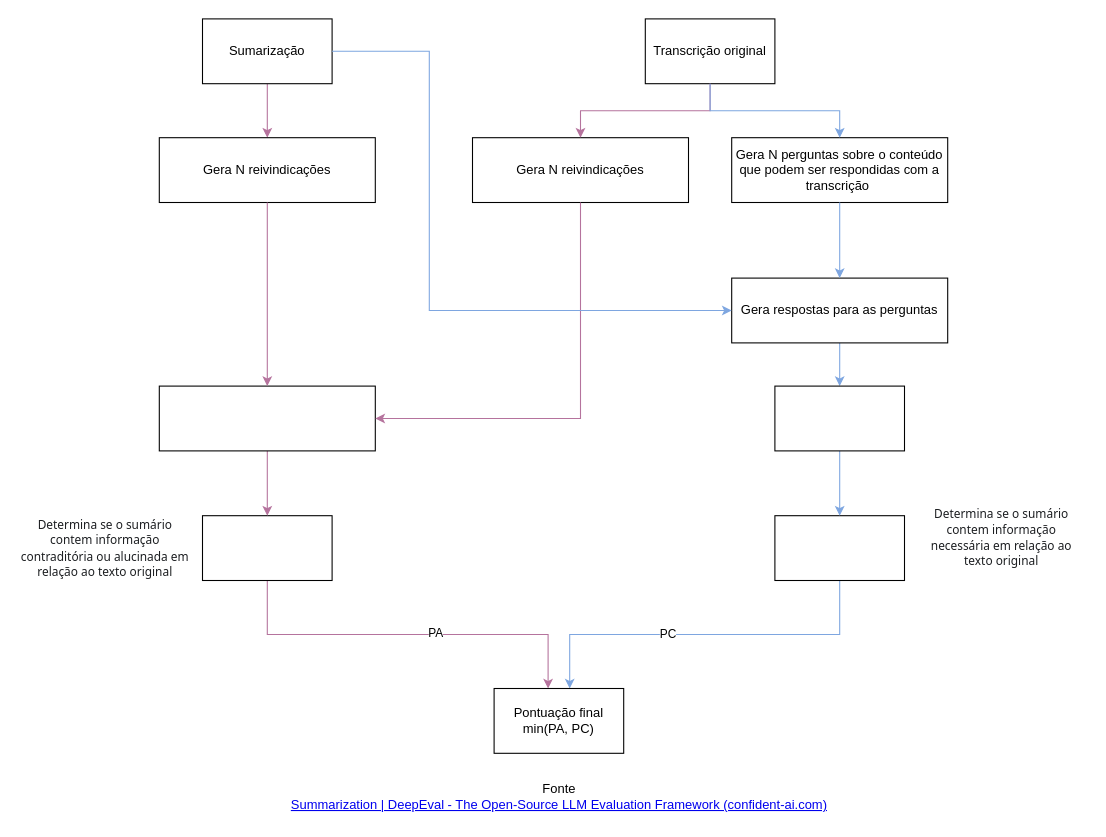
Some shapes in this 1106 by 837 pixel diagram are drawn without their labels. The shapes that lost their labels are listed below. From the top down, each one's centre as x and y in pixels, then its label:
At pixel 266 418: "Gera vereditos de alinhamento entre as duas reivindicações".
At pixel 839 418: "Gera vereditos de cobertura do texto sumarizado".
At pixel 266 547: "Pontuação de Alinhamento (PA)".
At pixel 839 547: "Pontuação de Cobertura (PC)".
